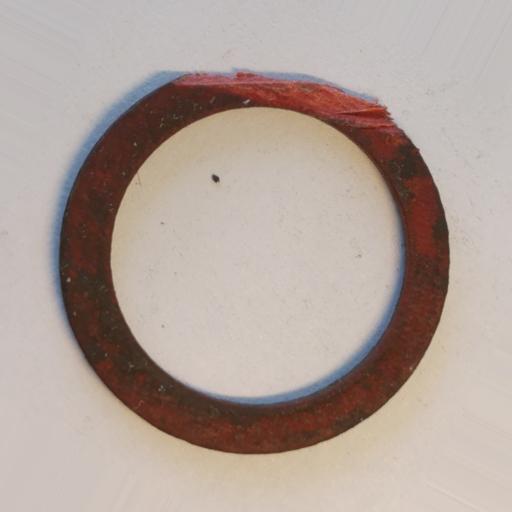defect: (172, 70, 397, 133)
